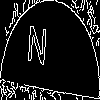N: (25, 25, 48, 75)
